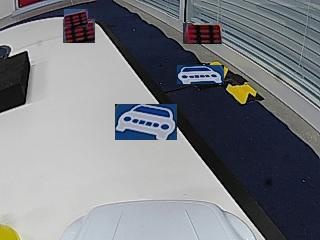block: (0, 53, 29, 114)
